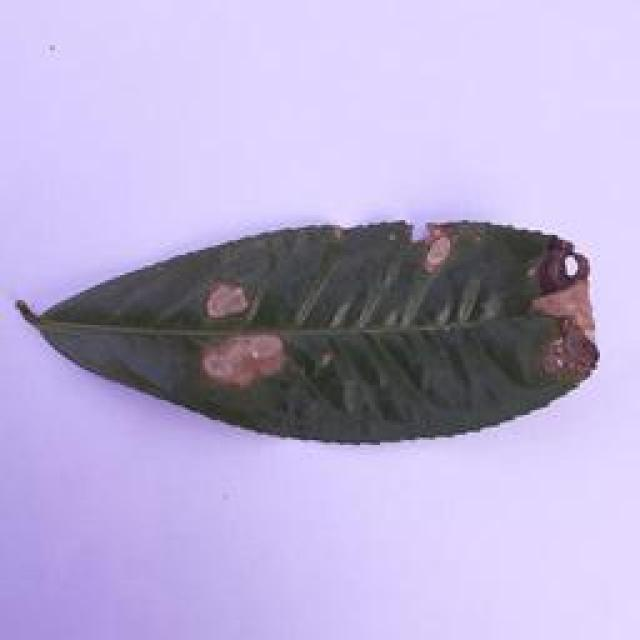Gray Blight: (7, 214, 607, 446)
